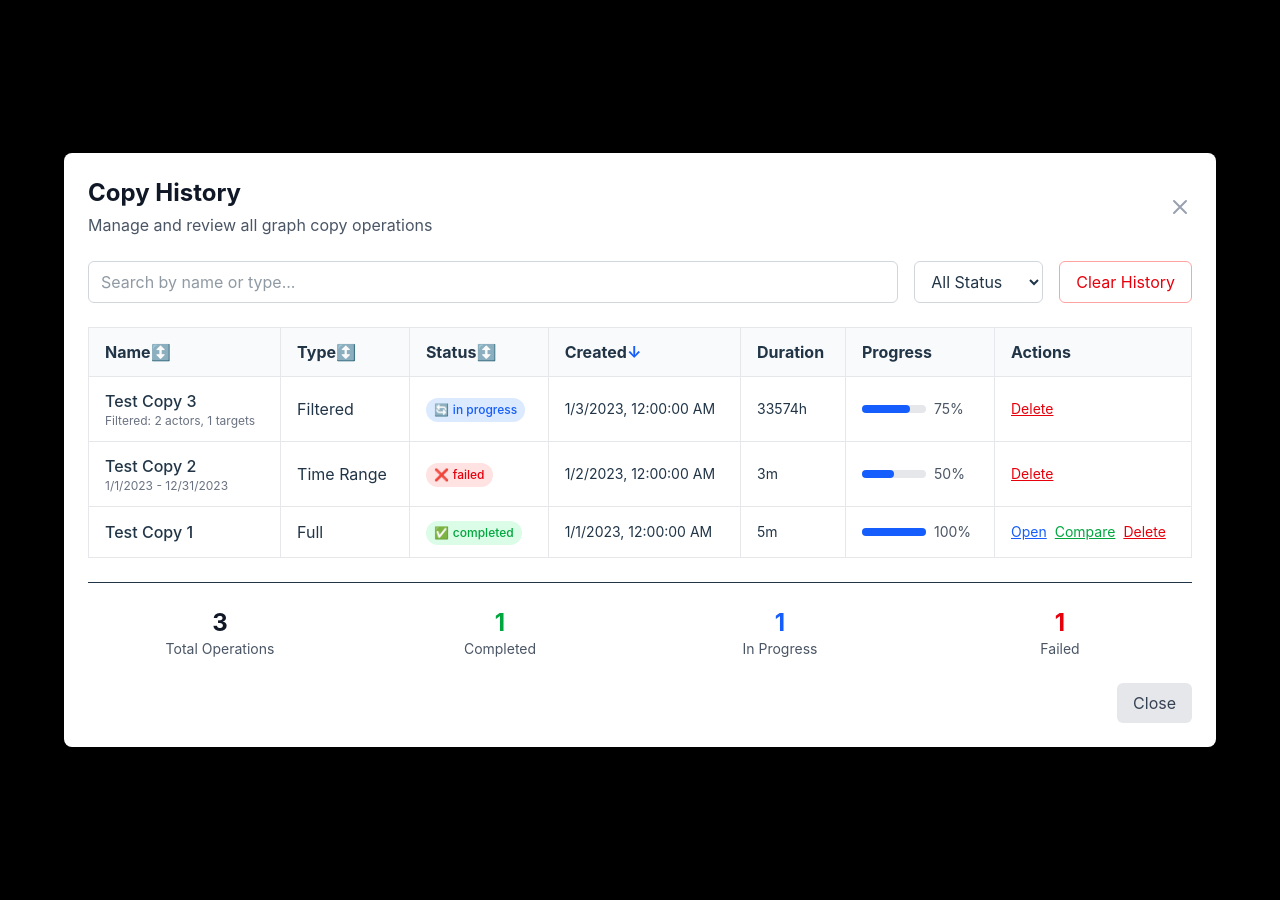
Test: CopyHistoryPanel › should sort operations by different fields
# Click on Name header to sort by name
Click the text "Name": {"x": 138, "y": 352} [105,342,171,362]
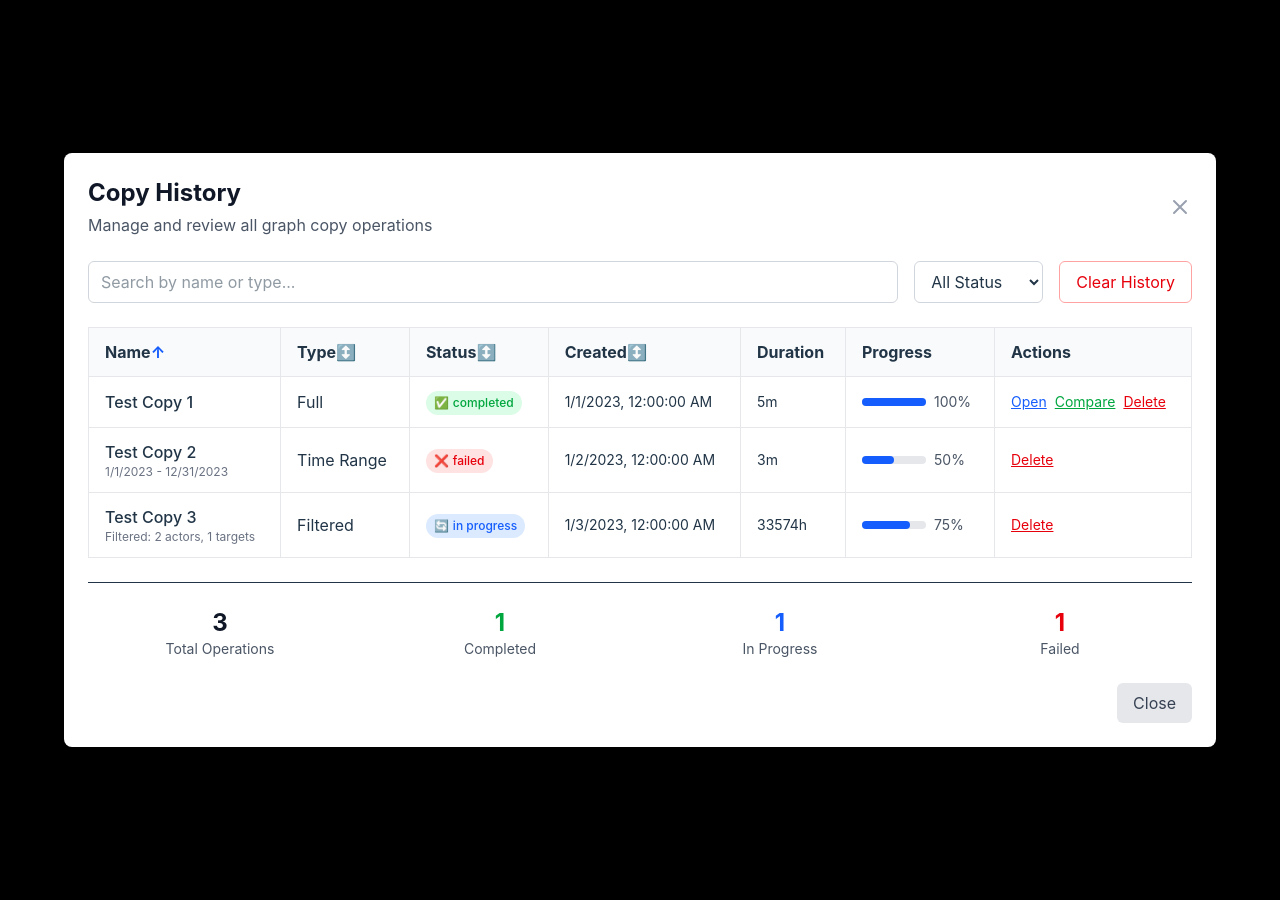
Now the text "↑" is shown, box [151,340,165,364]
